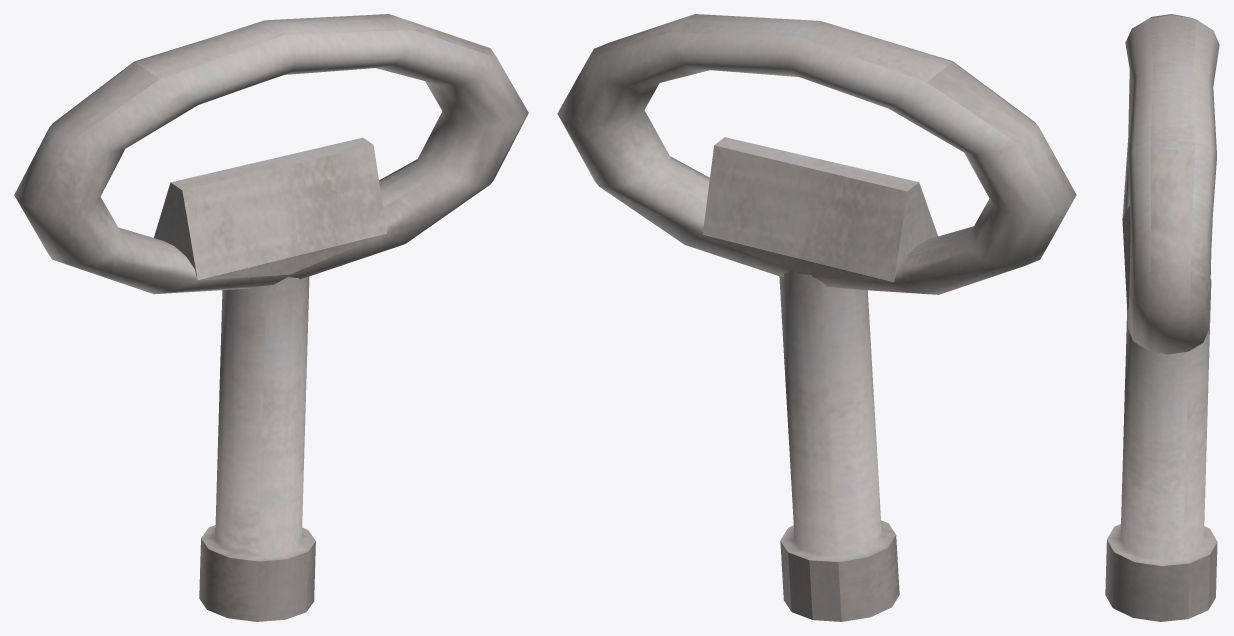
File: yaoshi.FBX
3 views of the same model, side by side, from view 1: azimuth 30°, elevation 25°; view 2: azimuth 150°, elevation 25°; view 3: azimuth 270°, elevation 25° (orthographic). The views are drawn at different scales.
Visible parts, largest first — view 1: Circle01; view 2: Circle01; view 3: Circle01.
Part boxes in pixels (x1,y1,x2,y2): Circle01: [14, 14, 528, 621]; Circle01: [557, 14, 1076, 621]; Circle01: [1105, 14, 1219, 621].
Size of the model in its own units: 5.25 by 5.65 by 1.07.
